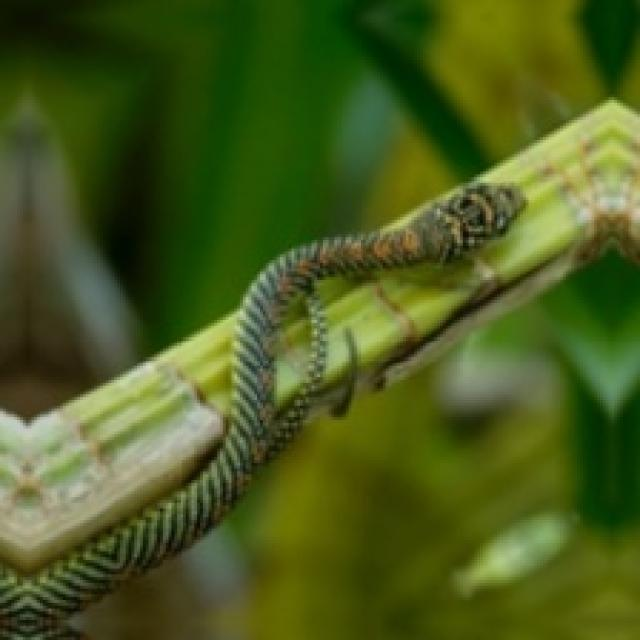paradise tree snake: (0, 183, 523, 637)
